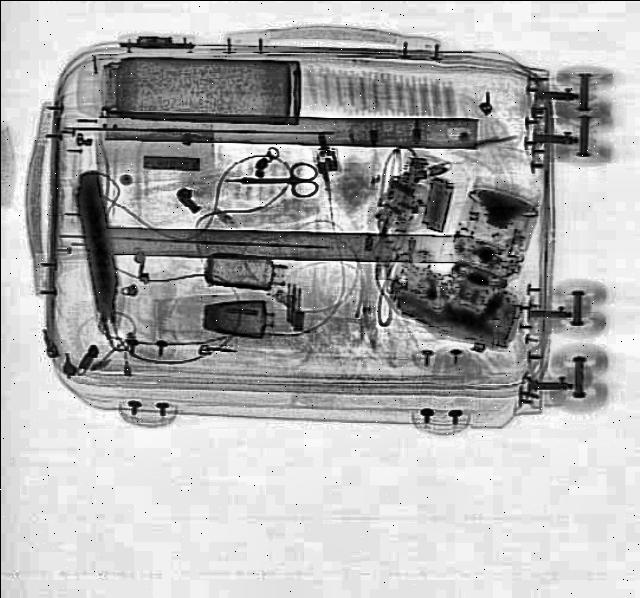Scissors: (222, 163, 318, 200)
